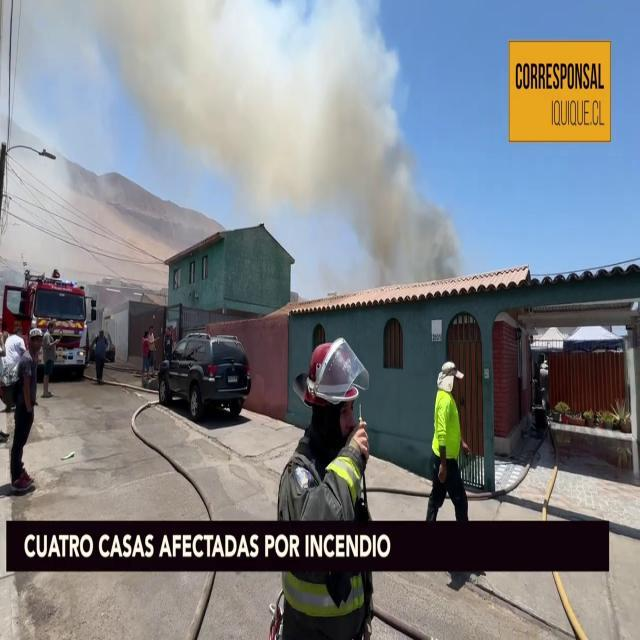Smoke: (292, 2, 466, 296), (88, 0, 287, 209)
